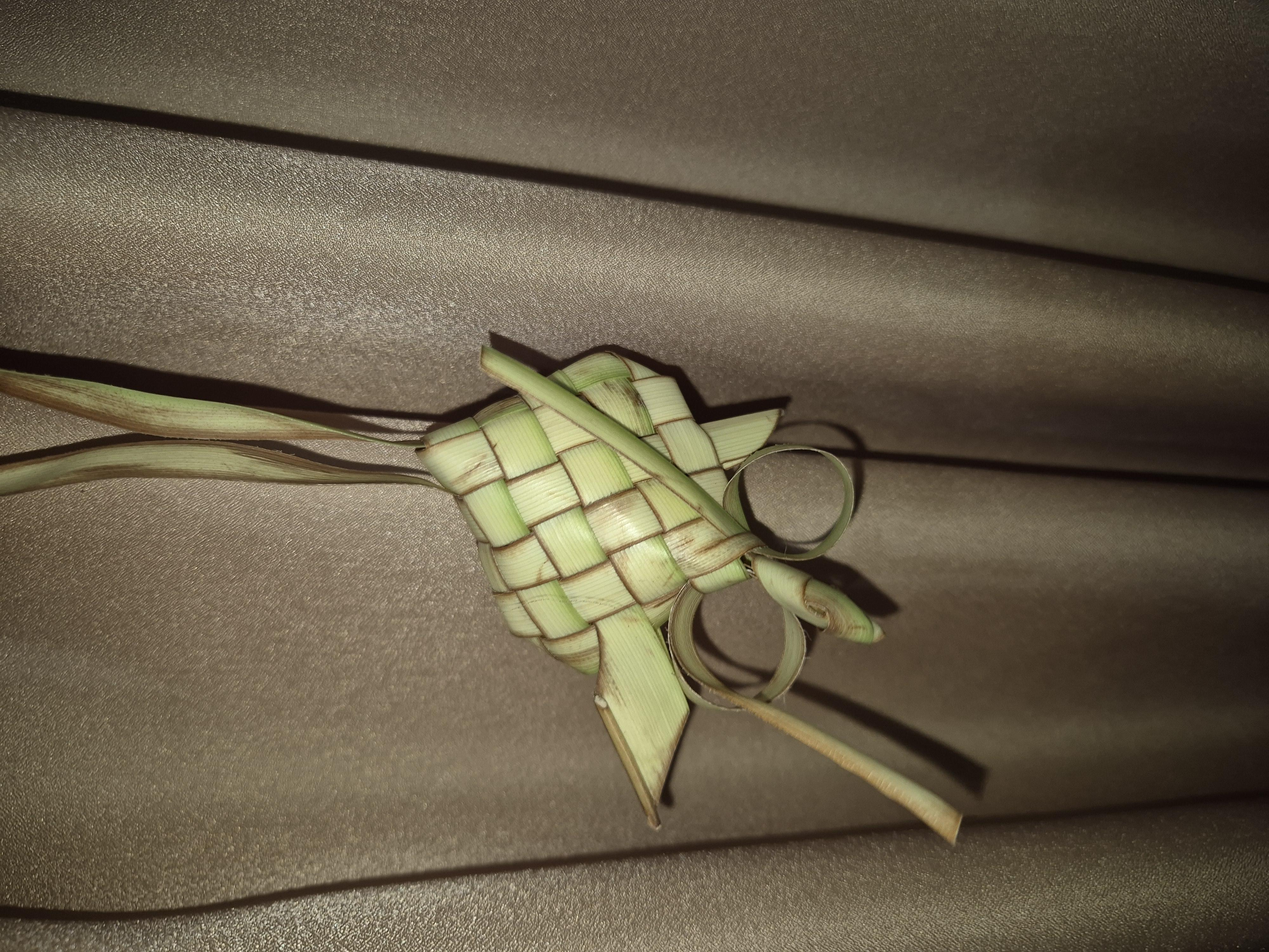Tipat Dampulan: (146, 314, 804, 721)
